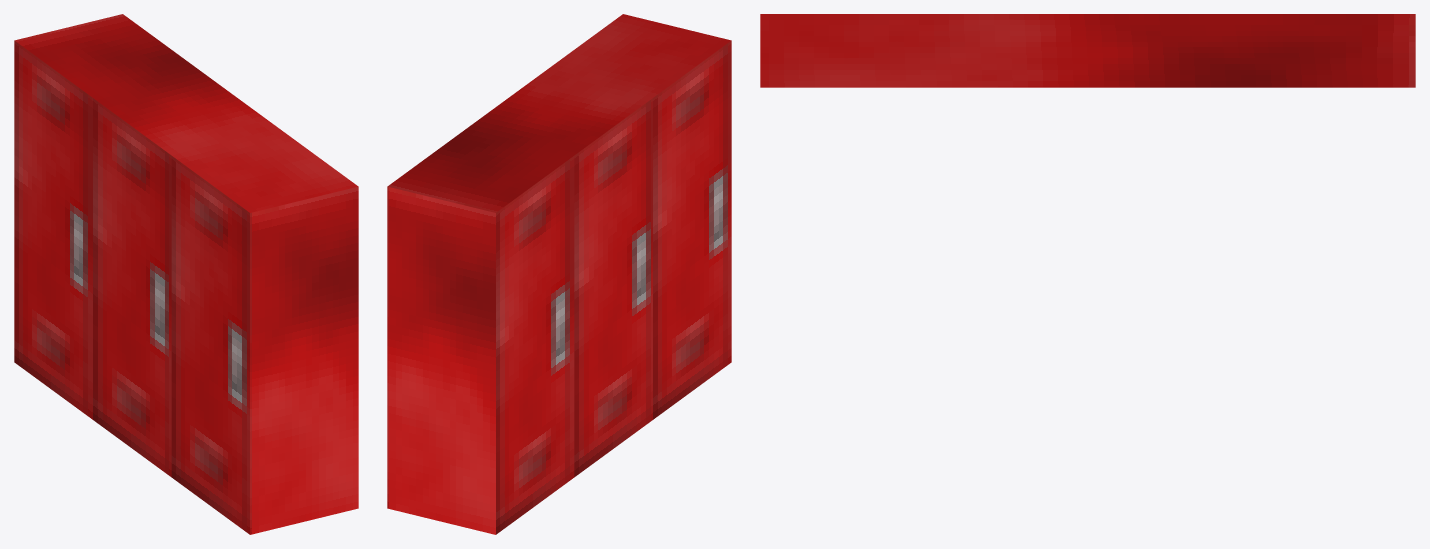
The picture shows the model from 3 angles, left to right: view 1: azimuth 30°, elevation 25°; view 2: azimuth 150°, elevation 25°; view 3: azimuth 270°, elevation 25°; orthographic projection. The views are drawn at different scales.
Parts seen in each view (by area): view 1: Box01; view 2: Box01; view 3: Box01.
Boxes of the visible parts, x1=… form: Box01: x1=14, y1=14, x2=358, y2=534; Box01: x1=387, y1=14, x2=731, y2=534; Box01: x1=760, y1=14, x2=1415, y2=87.
Bounding box in the file's own units: 102 × 289 × 384.
Materials: 1 (1 with a texture image).
